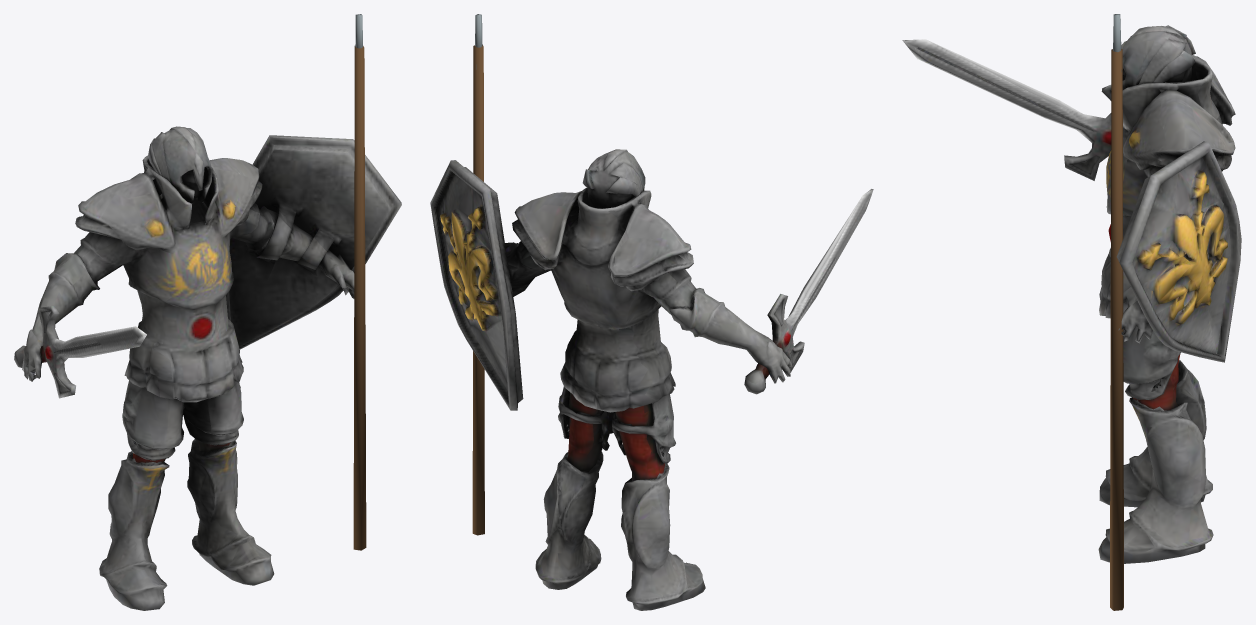
The model's file is actor-guardsman-mobile.glb.
3 views of the same model, side by side, from view 1: azimuth 30°, elevation 25°; view 2: azimuth 150°, elevation 25°; view 3: azimuth 270°, elevation 25° (orthographic). The views are drawn at different scales.
Parts seen in each view (by area): view 1: Group61487.001 · posed; view 2: Group61487.001 · posed; view 3: Group61487.001 · posed.
Boxes of the visible parts, left/top/right/bottom form: Group61487.001 · posed: left=14, top=14, right=401, bottom=610; Group61487.001 · posed: left=430, top=14, right=873, bottom=610; Group61487.001 · posed: left=902, top=14, right=1241, bottom=610.
Bounding box in the file's own units: 1.72 × 2.39 × 1.22.
3 materials, 1 textured.
